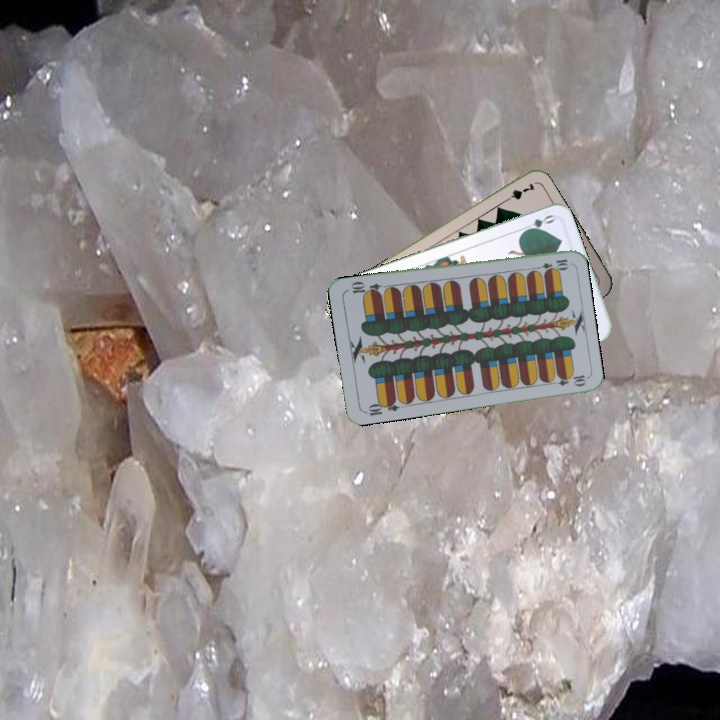E10: (361, 395, 401, 418), (530, 255, 571, 273)
G7: (499, 179, 537, 206)
GO: (517, 210, 557, 236)
